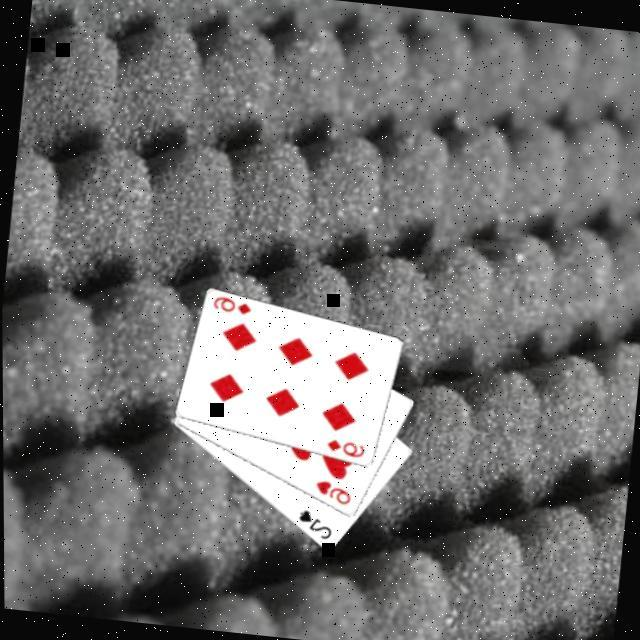2S: (294, 505, 337, 543)
6D: (324, 434, 369, 460), (210, 291, 255, 317)
9H: (311, 476, 356, 508)
